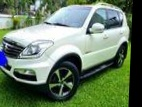car: (0, 0, 130, 104)
